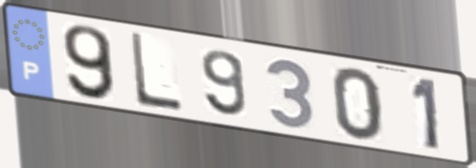0: (330, 64, 386, 142)
1: (407, 76, 442, 154)
3: (263, 55, 317, 131)
9: (59, 24, 115, 103), (198, 48, 249, 118)
L: (127, 30, 185, 115)
